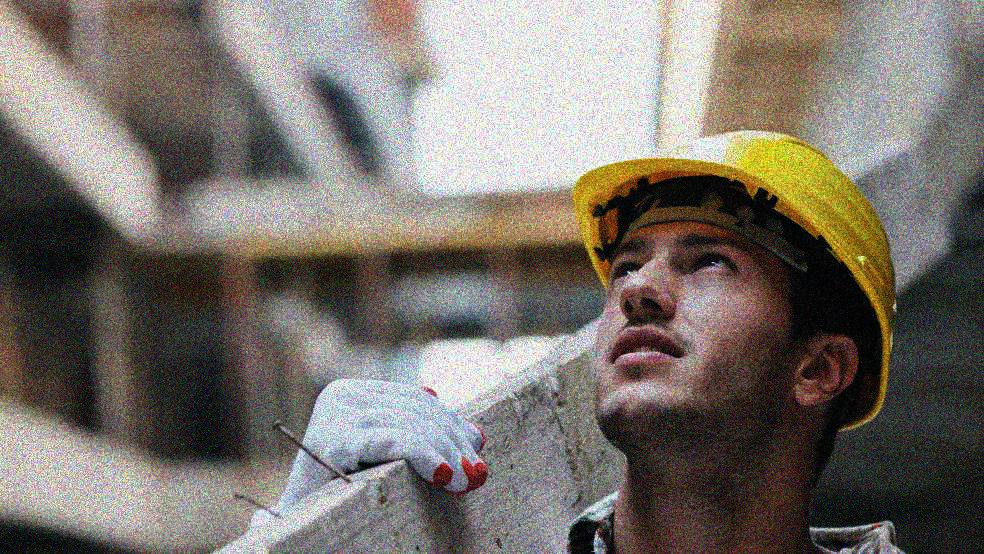helmet: (566, 124, 899, 444)
